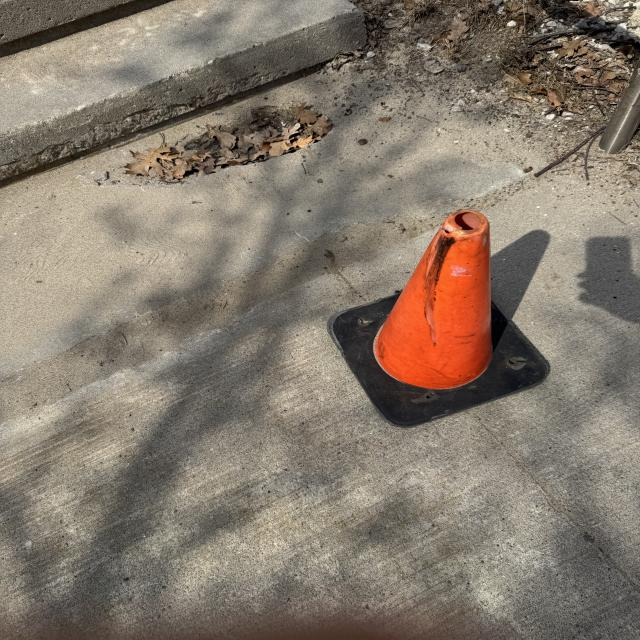Traffic Cone: (331, 208, 552, 428)
